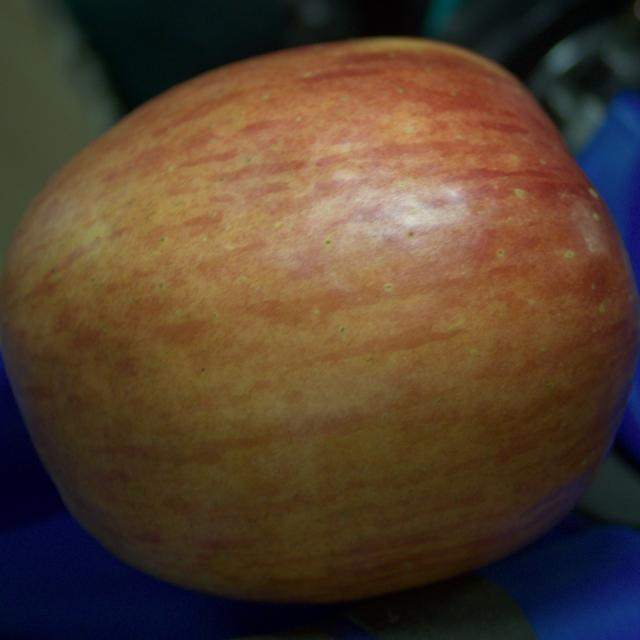apple: (0, 39, 639, 601)
